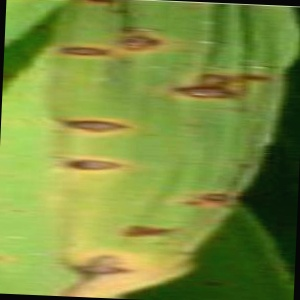Bacterial_Leaf_Blight: (46, 150, 135, 179), (169, 80, 249, 108), (55, 112, 135, 139), (112, 219, 186, 245), (59, 259, 141, 281), (45, 40, 118, 63), (110, 33, 171, 55), (236, 64, 283, 89), (193, 68, 241, 92), (194, 188, 244, 210), (113, 22, 173, 37), (171, 196, 205, 212), (200, 277, 228, 290), (206, 231, 231, 245), (77, 0, 124, 6), (7, 205, 29, 215), (0, 250, 6, 269)
